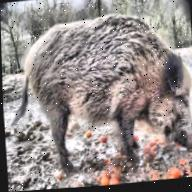boar: (5, 4, 192, 178)
